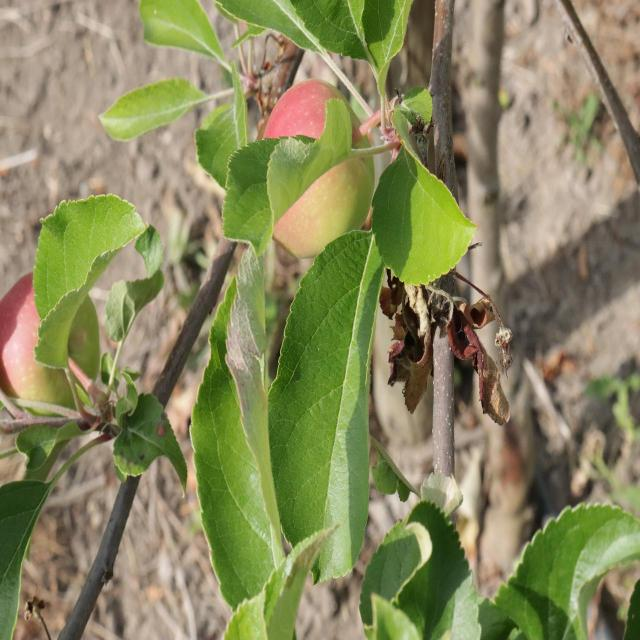-FireBlight-: (376, 263, 525, 424)
